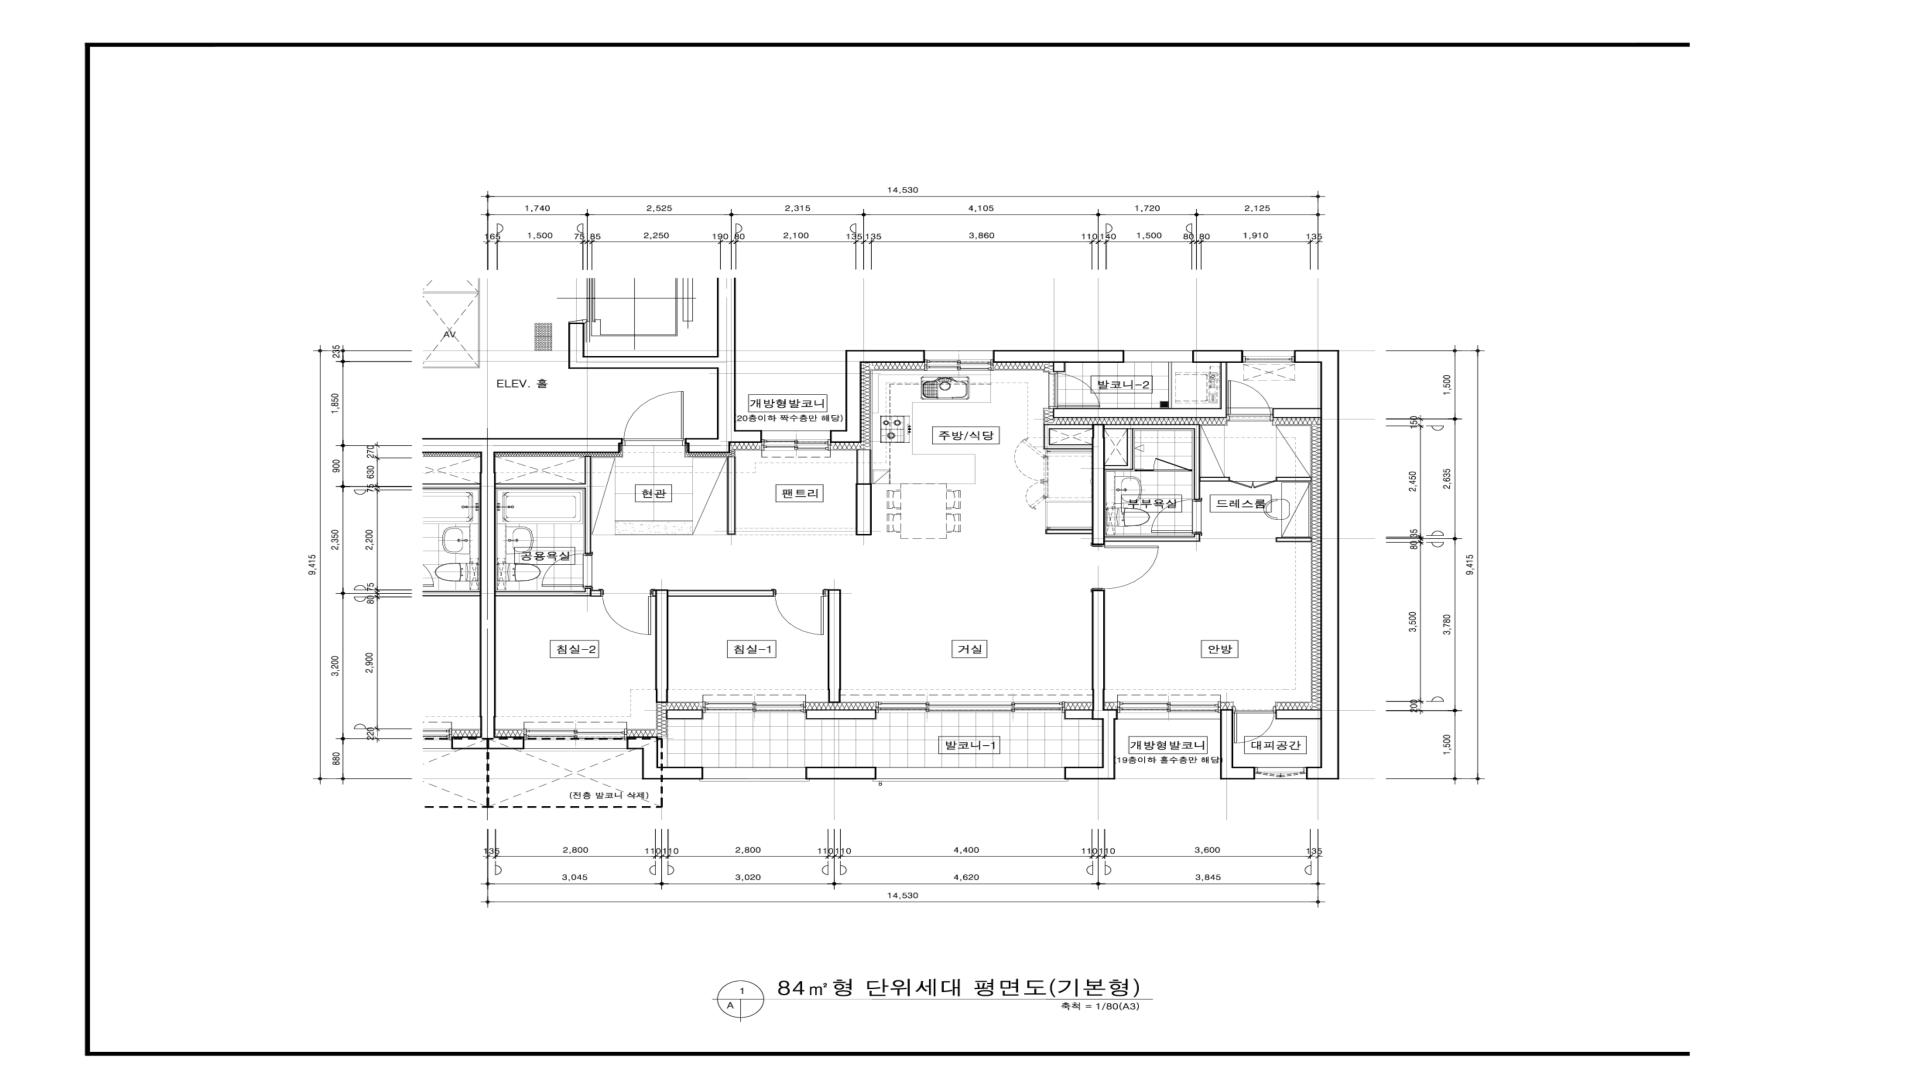door: (622, 390, 686, 446), (1091, 545, 1159, 589), (774, 588, 827, 636), (601, 588, 653, 636), (1048, 372, 1100, 409), (1228, 380, 1273, 421), (541, 554, 592, 588), (1151, 500, 1201, 534), (1233, 705, 1275, 744), (1230, 477, 1275, 489), (1153, 458, 1192, 471)
wall: (479, 438, 622, 749), (568, 278, 762, 452), (1295, 349, 1340, 779), (1046, 423, 1200, 545), (653, 589, 774, 703), (1064, 589, 1118, 779), (1052, 363, 1226, 418), (1105, 425, 1230, 500), (496, 456, 591, 554), (831, 349, 924, 443), (626, 737, 703, 779), (1220, 709, 1255, 779), (993, 349, 1124, 363), (828, 589, 841, 703), (856, 450, 872, 535), (1043, 425, 1092, 450), (806, 766, 877, 779), (496, 588, 601, 596), (727, 456, 736, 534), (1192, 349, 1244, 363), (806, 709, 876, 719), (1273, 409, 1320, 418), (1275, 709, 1320, 719), (666, 709, 703, 719), (1064, 709, 1092, 719), (1276, 537, 1311, 542), (1276, 477, 1311, 481), (1052, 363, 1065, 372), (1134, 469, 1153, 471)
window: (877, 766, 1064, 781), (876, 702, 1064, 713), (525, 728, 626, 749), (1118, 702, 1220, 719), (703, 766, 806, 782), (924, 351, 993, 371), (762, 431, 831, 451), (703, 702, 806, 713), (1125, 351, 1192, 363), (1255, 766, 1305, 779), (1244, 351, 1294, 363)
